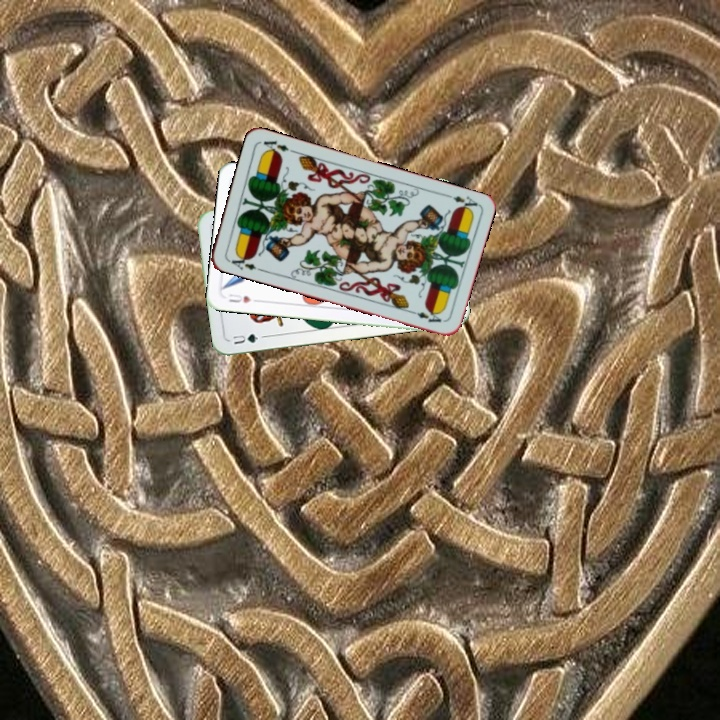EA: (224, 250, 259, 273), (449, 192, 480, 214)
GU: (227, 329, 261, 347)
HU: (225, 289, 261, 305)
